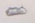microplastic: (5, 5, 27, 16)
